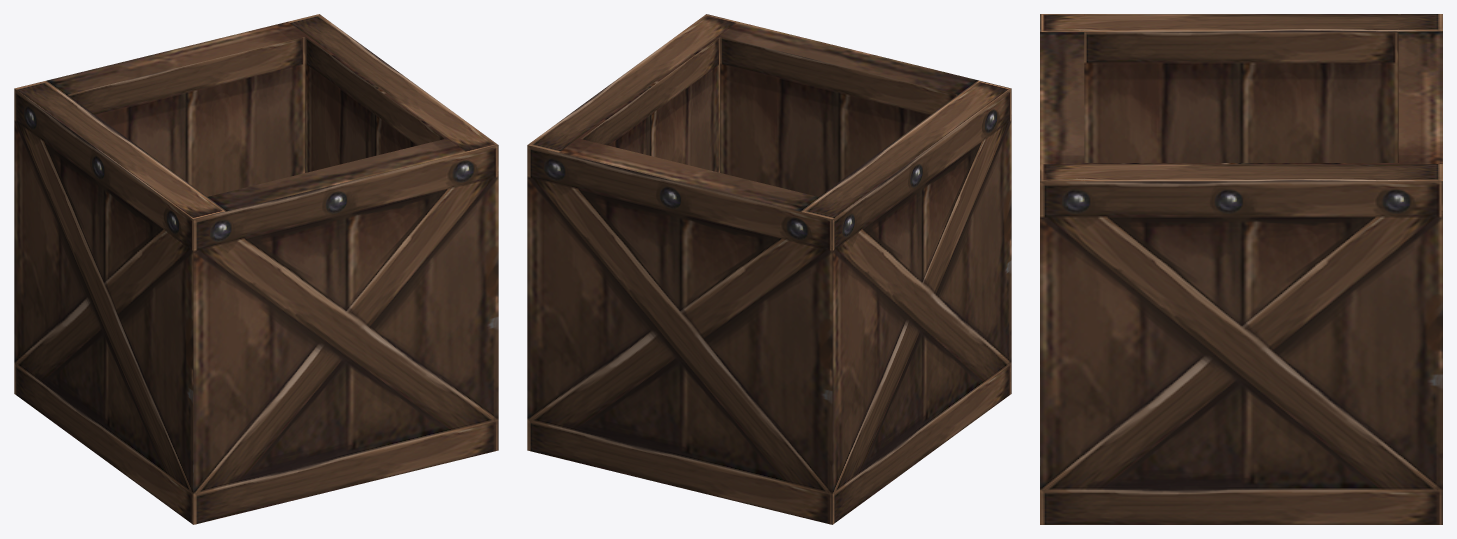
3 views of the same model, side by side, from view 1: azimuth 30°, elevation 25°; view 2: azimuth 150°, elevation 25°; view 3: azimuth 270°, elevation 25° (orthographic). The views are drawn at different scales.
Parts seen in each view (by area): view 1: box_k006; view 2: box_k006; view 3: box_k006.
Part boxes in pixels (x1,y1,x2,y2): box_k006: (14, 14, 498, 524); box_k006: (527, 14, 1011, 524); box_k006: (1040, 14, 1442, 524).
Size of the model in its own units: 1.05 by 1 by 1.06.
Materials: 1 (1 with a texture image).
